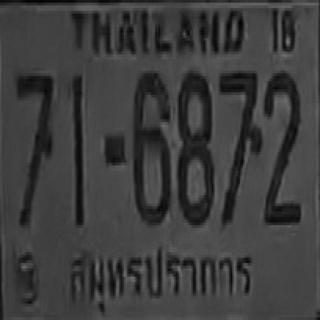N01: (72, 73, 83, 225)
N02: (261, 69, 300, 224)
N06: (132, 71, 169, 222)
N07: (217, 68, 260, 222), (15, 70, 53, 225)
N08: (176, 69, 213, 224)
P57: (60, 236, 257, 317)
